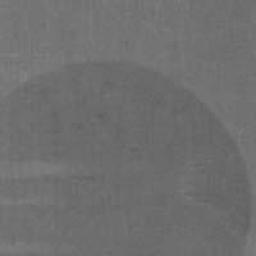Oil spot: (0, 60, 251, 256)
